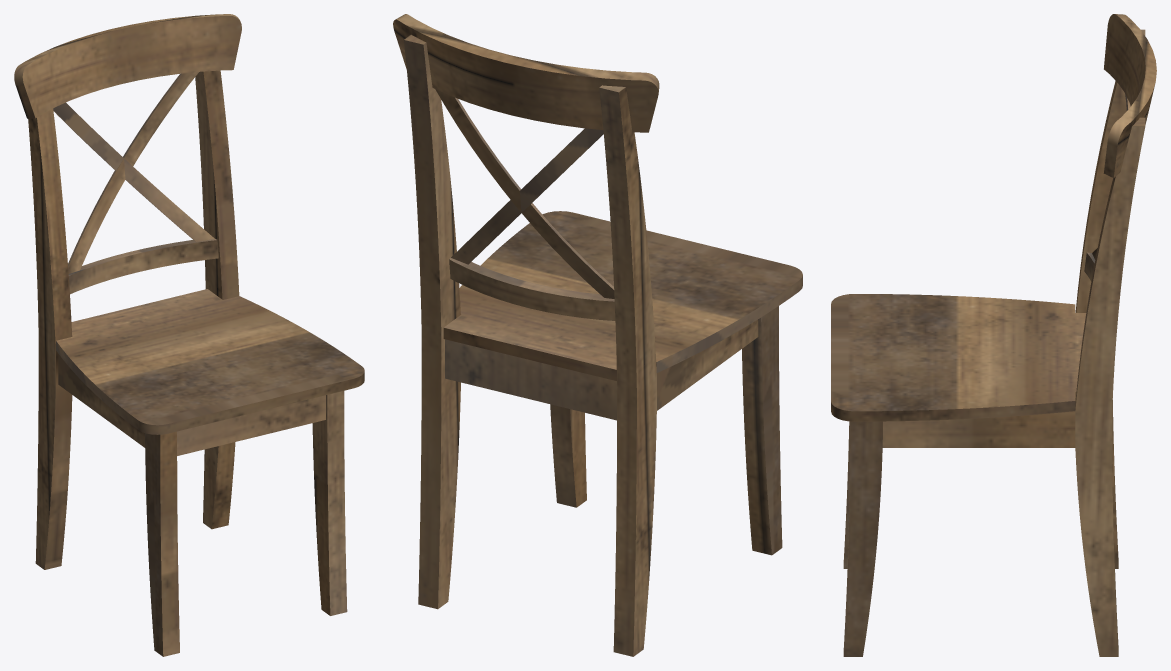
Rendered from chair__wooden_chair.glb.
The picture shows the model from 3 angles, left to right: view 1: azimuth 30°, elevation 25°; view 2: azimuth 150°, elevation 25°; view 3: azimuth 270°, elevation 25°; orthographic projection. The views are drawn at different scales.
Parts seen in each view (by area): view 1: tv_0; view 2: tv_0; view 3: tv_0.
Part boxes in pixels (x1,y1,x2,y2): tv_0: (14, 14, 364, 656); tv_0: (393, 14, 802, 656); tv_0: (831, 14, 1156, 656).
Bounding box in the file's own units: 0.5031 × 1.06 × 0.5807.
Materials: 1 (1 with a texture image).
